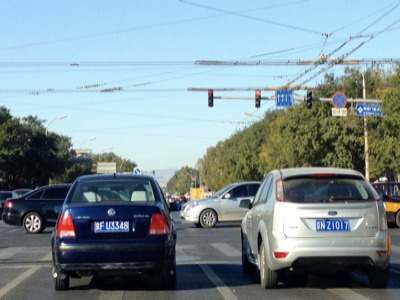licence: (93, 220, 130, 233), (316, 219, 349, 230)
